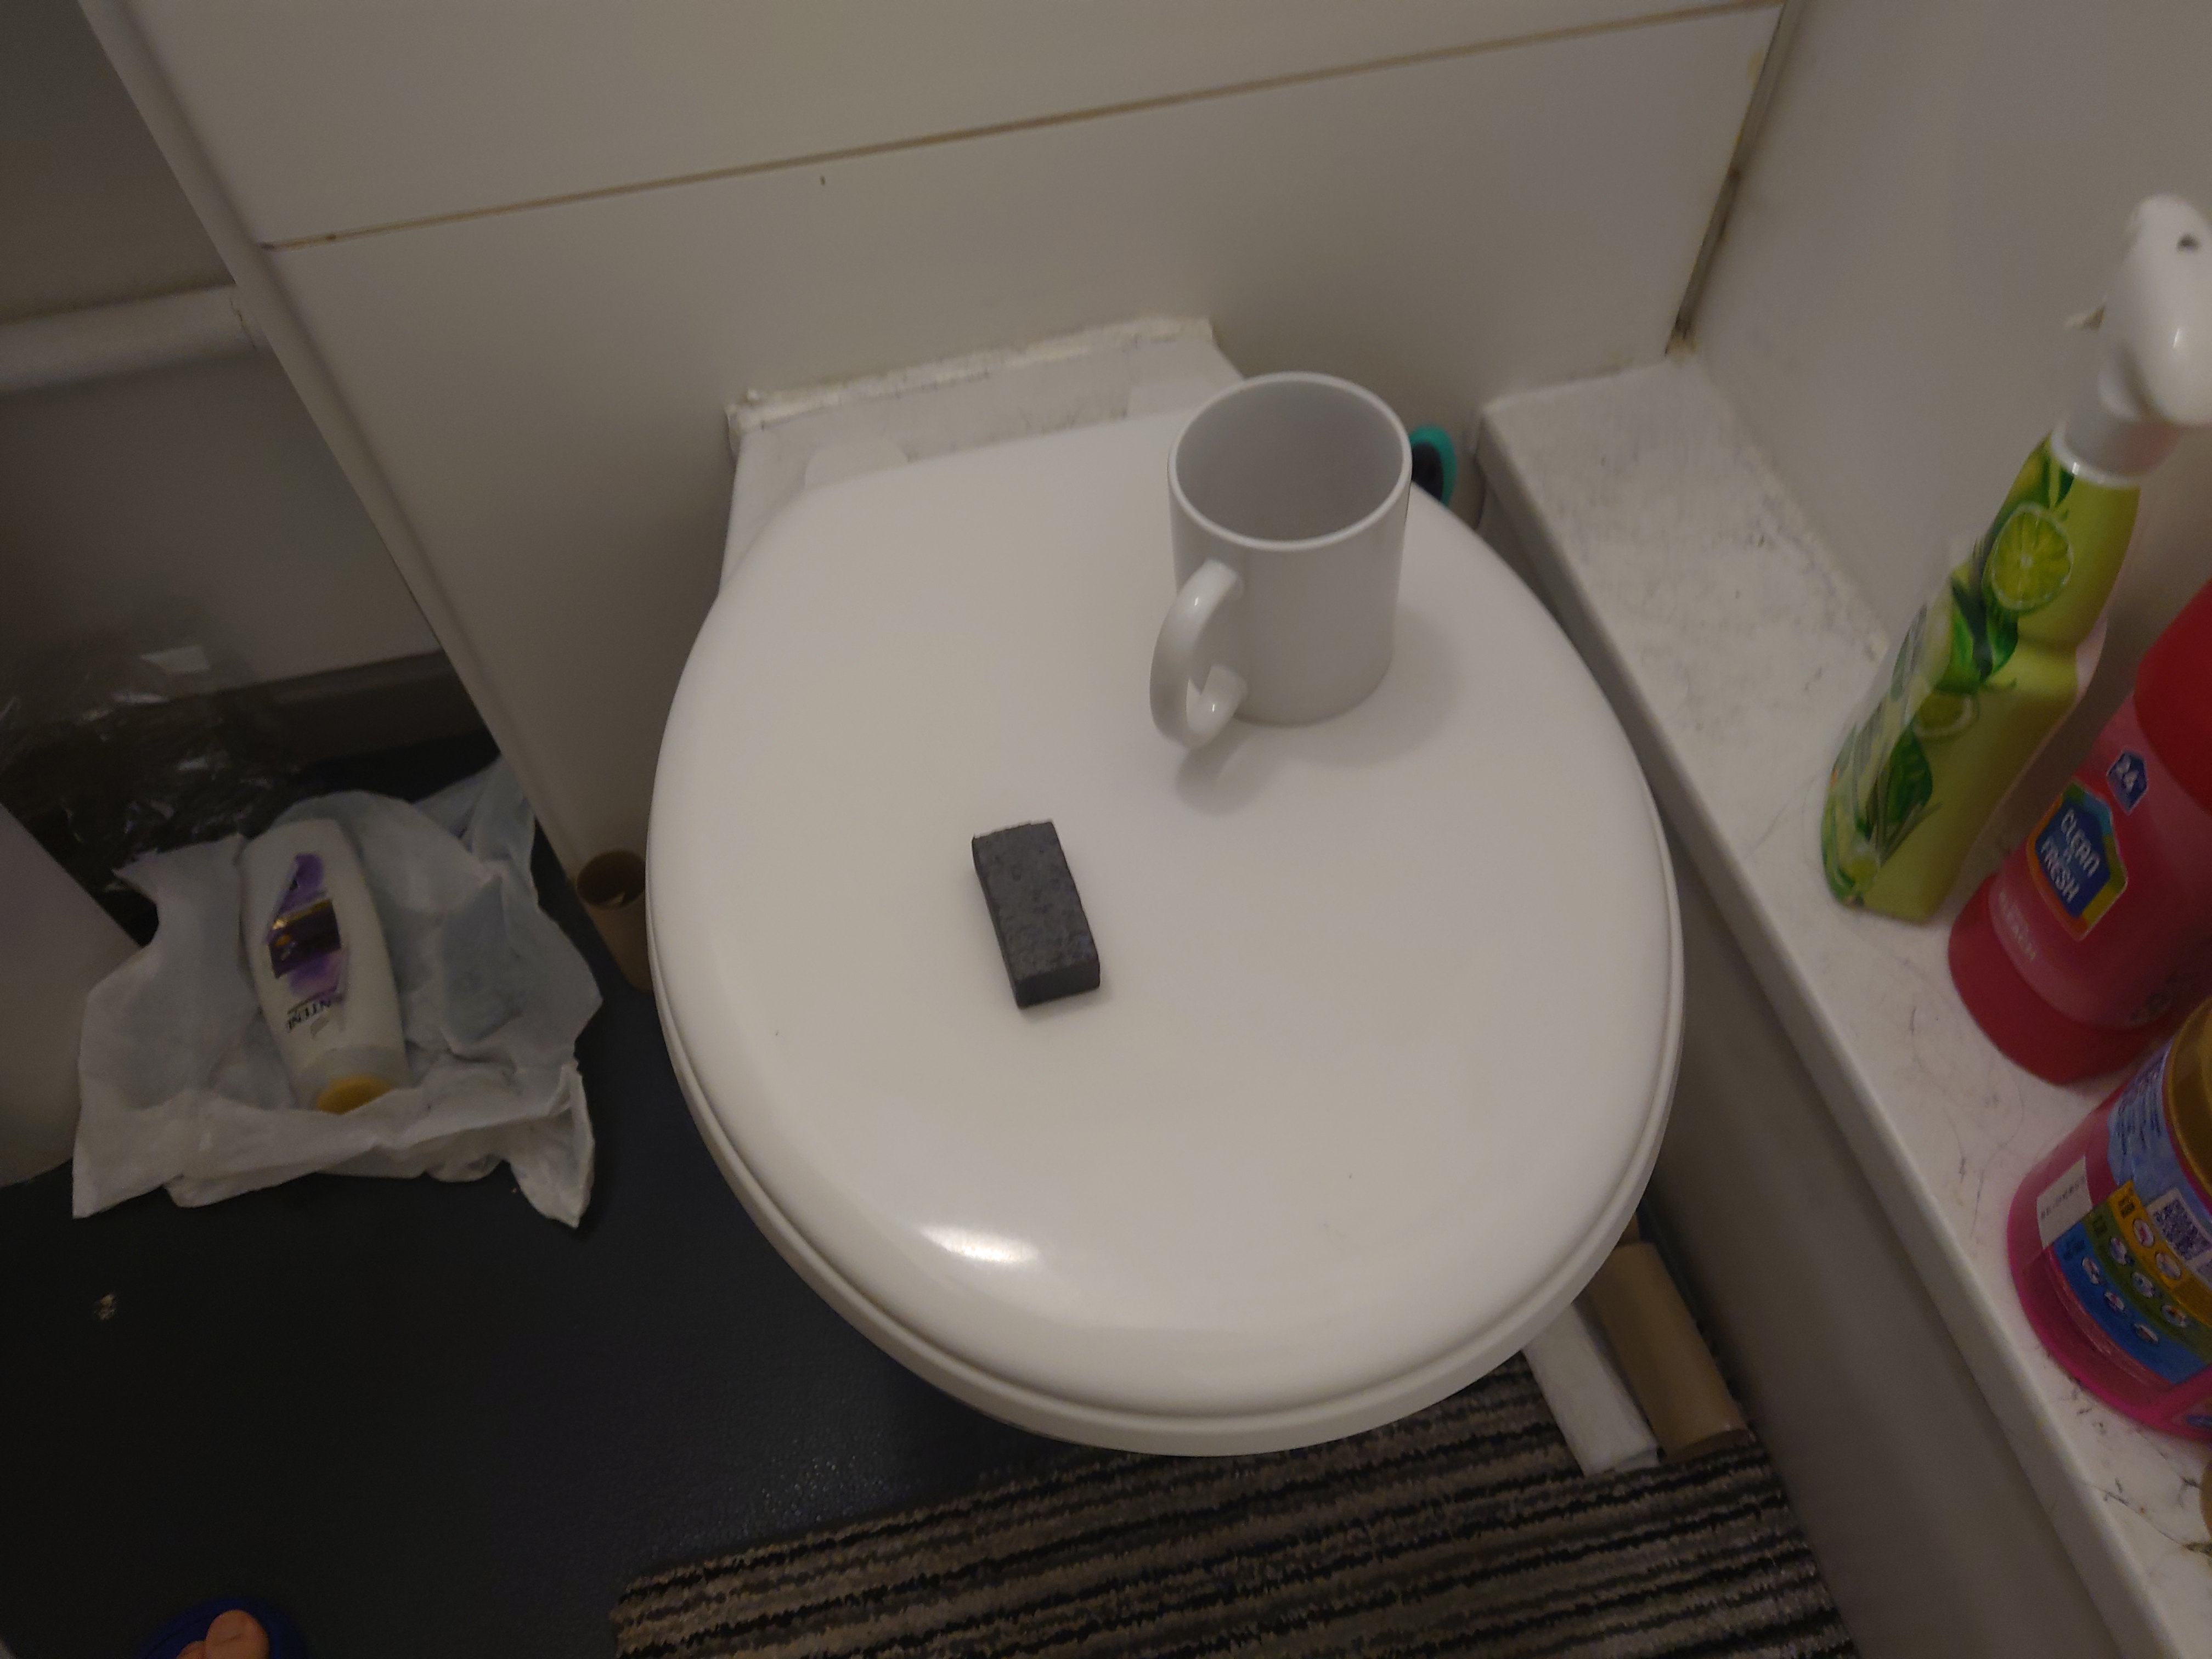cup: (1123, 357, 1413, 760)
target: (970, 817, 1101, 1012)
